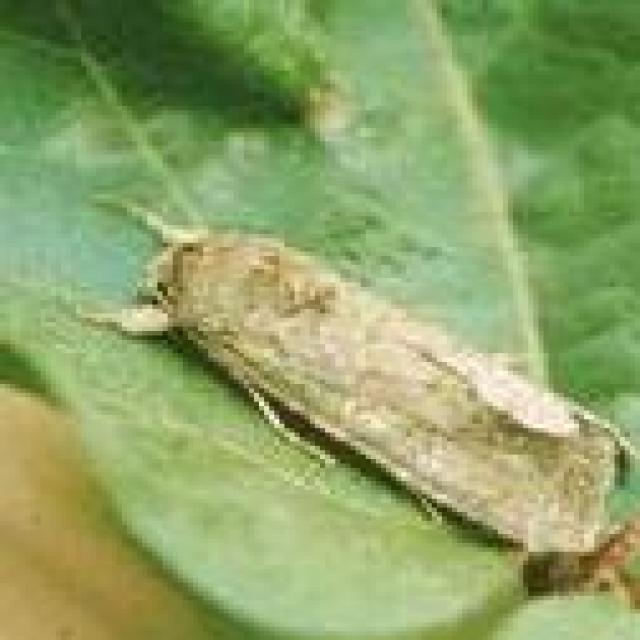armyworm: (78, 186, 640, 594)
